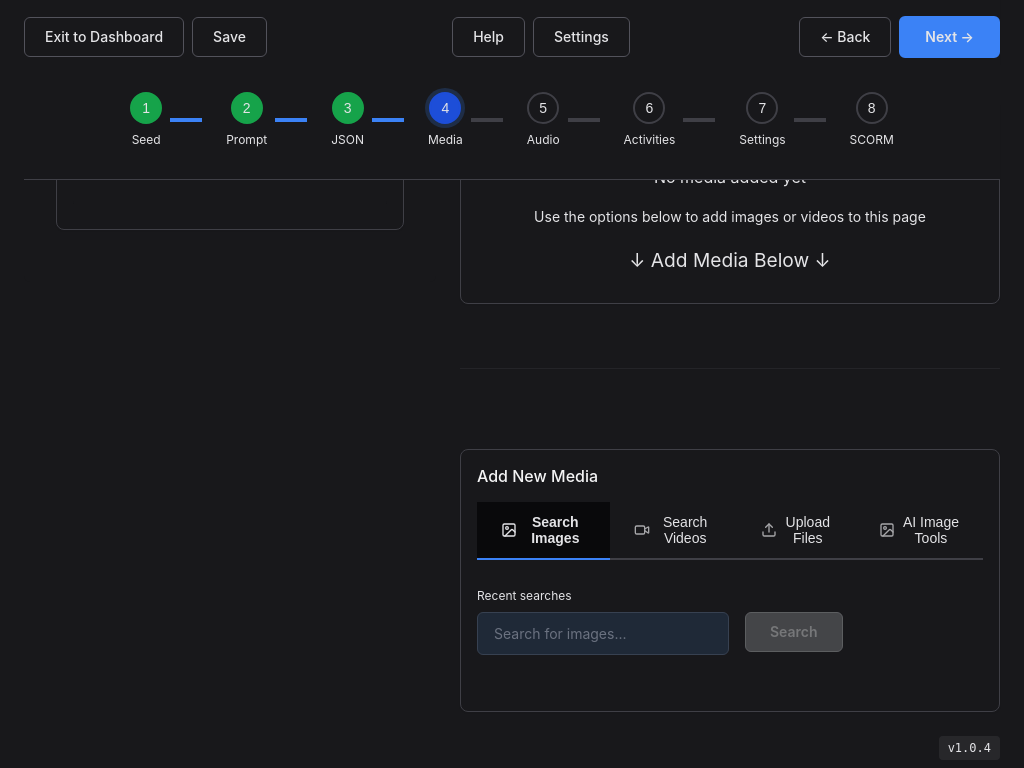
Scenario: MediaEnhancementWizard - Refined Error Handling › should fall back to mock data for network errors (not show error dialog)
(page scrolled)
Expected: the heading "Topic 1" is shown, [113,92,160,110]
Note: Perform search - this simulates network error fallback behavior
Type "test search" into the field with placeholder "Search for images..." at coordinates (603, 634), box [477,612,729,655]
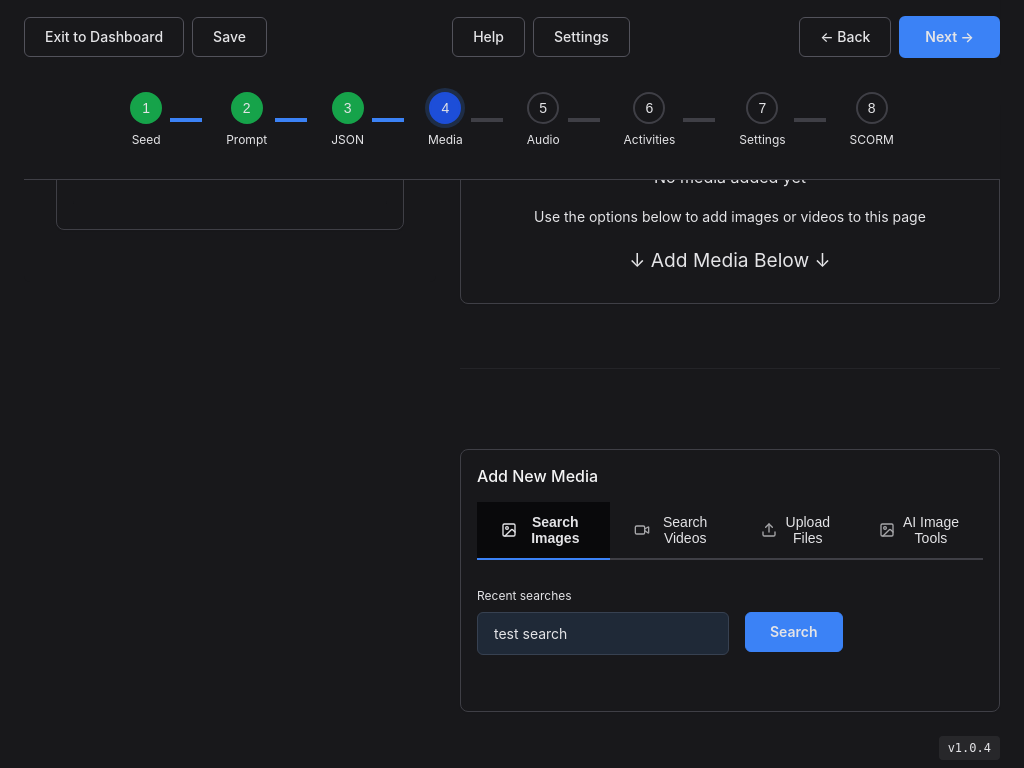
Click the button with aria-label "search images" at coordinates (794, 632), box [745,612,842,652]
(page scrolled)
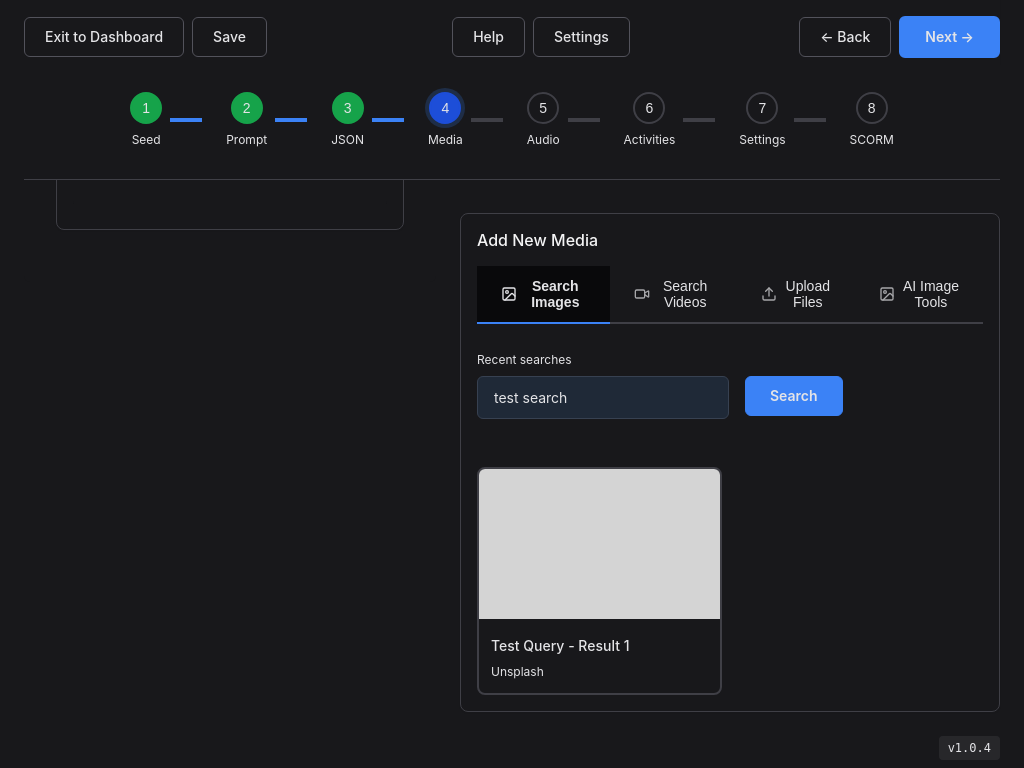
Expected: the text "Test Query - Result 1" is shown, [491,637,630,654]
Expected: the text "Unsplash" is shown, [491,662,544,681]
